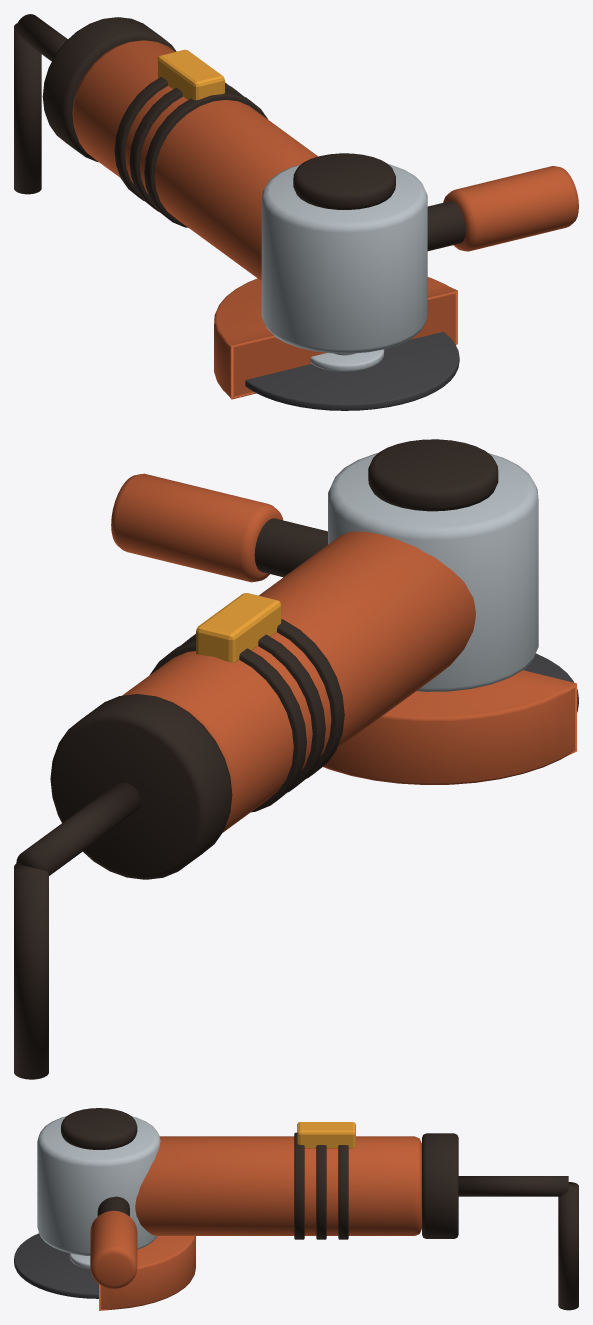
Rendered from grinder.glb.
3 renders of one model, top to bottom at view 1: azimuth 30°, elevation 25°; view 2: azimuth 150°, elevation 25°; view 3: azimuth 270°, elevation 25°, orthographic. The views are drawn at different scales.
Parts seen in each view (by area): view 1: GRIND_gearbox, GRIND_body, GRIND_disc, GRIND_guard, GRIND_handle_grip, GRIND_rear_cap, GRIND_gear_cap, GRIND_cable_b, GRIND_switch, GRIND_vent_2, GRIND_handle, GRIND_vent_1 (+3 smaller); view 2: GRIND_body, GRIND_rear_cap, GRIND_gearbox, GRIND_guard, GRIND_handle_grip, GRIND_gear_cap, GRIND_cable_b, GRIND_cable_a, GRIND_switch, GRIND_handle, GRIND_vent_0, GRIND_vent_1 (+1 smaller); view 3: GRIND_body, GRIND_gearbox, GRIND_guard, GRIND_rear_cap, GRIND_handle_grip, GRIND_disc, GRIND_gear_cap, GRIND_cable_b, GRIND_cable_a, GRIND_switch, GRIND_vent_2, GRIND_vent_0 (+2 smaller).
Part boxes in pixels (left/top/right/bottom): GRIND_gearbox: left=261, top=164, right=427, bottom=353; GRIND_body: left=72, top=40, right=317, bottom=280; GRIND_disc: left=245, top=332, right=459, bottom=410; GRIND_guard: left=214, top=277, right=457, bottom=399; GRIND_handle_grip: left=443, top=166, right=578, bottom=251; GRIND_rear_cap: left=42, top=17, right=176, bottom=162; GRIND_gear_cap: left=293, top=153, right=395, bottom=209; GRIND_cable_b: left=14, top=23, right=41, bottom=194; GRIND_switch: left=157, top=49, right=224, bottom=100; GRIND_vent_2: left=144, top=91, right=267, bottom=227; GRIND_handle: left=427, top=201, right=465, bottom=251; GRIND_vent_1: left=129, top=84, right=243, bottom=211; GRIND_body: left=122, top=531, right=475, bottom=832; GRIND_rear_cap: left=50, top=694, right=232, bottom=879; GRIND_gearbox: left=328, top=453, right=538, bottom=691; GRIND_guard: left=323, top=670, right=576, bottom=784; GRIND_handle_grip: left=111, top=473, right=282, bottom=582; GRIND_gear_cap: left=368, top=439, right=498, bottom=511; GRIND_cable_b: left=14, top=863, right=48, bottom=1079; GRIND_cable_a: left=16, top=782, right=140, bottom=875; GRIND_switch: left=196, top=593, right=281, bottom=662; GRIND_handle: left=254, top=518, right=327, bottom=577; GRIND_vent_0: left=150, top=640, right=306, bottom=812; GRIND_vent_1: left=180, top=634, right=325, bottom=792; GRIND_body: left=135, top=1136, right=421, bottom=1235; GRIND_gearbox: left=37, top=1116, right=160, bottom=1255; GRIND_guard: left=99, top=1236, right=195, bottom=1310; GRIND_rear_cap: left=422, top=1133, right=458, bottom=1238; GRIND_handle_grip: left=90, top=1210, right=137, bottom=1288; GRIND_disc: left=14, top=1233, right=98, bottom=1298; GRIND_gear_cap: left=61, top=1108, right=137, bottom=1149; GRIND_cable_b: left=558, top=1182, right=578, bottom=1310; GRIND_cable_a: left=458, top=1176, right=568, bottom=1196; GRIND_switch: left=297, top=1122, right=355, bottom=1148; GRIND_vent_2: left=294, top=1132, right=304, bottom=1239; GRIND_vent_0: left=338, top=1145, right=348, bottom=1239.
Size of the model in its own units: 0.201 by 0.138 by 0.385.
